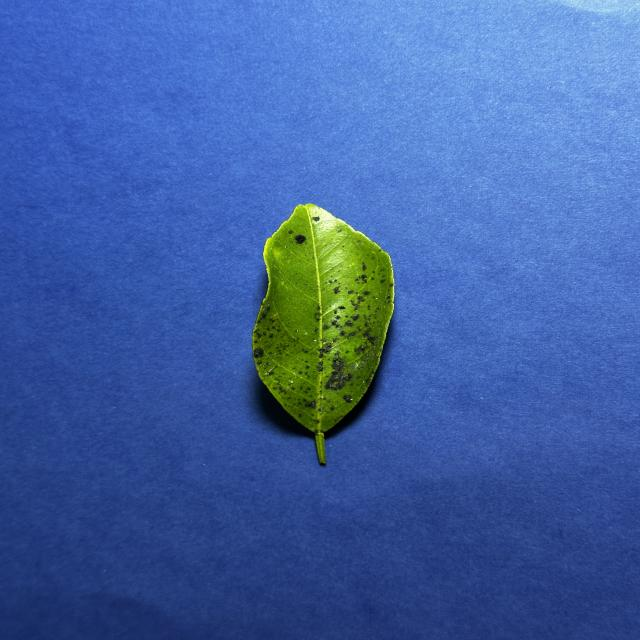sooty_mold: (252, 204, 395, 463)
